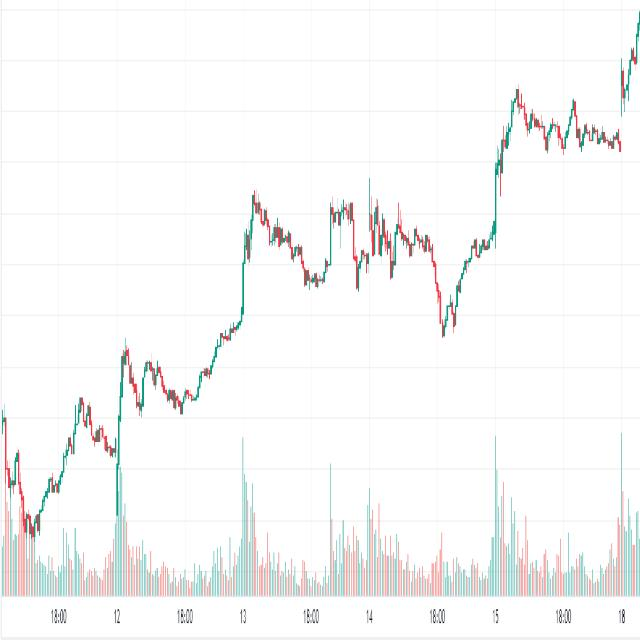Descending-Triangle: (116, 303, 203, 425)
Double-Bottom: (433, 280, 464, 346)
Triangle: (242, 123, 449, 392)
